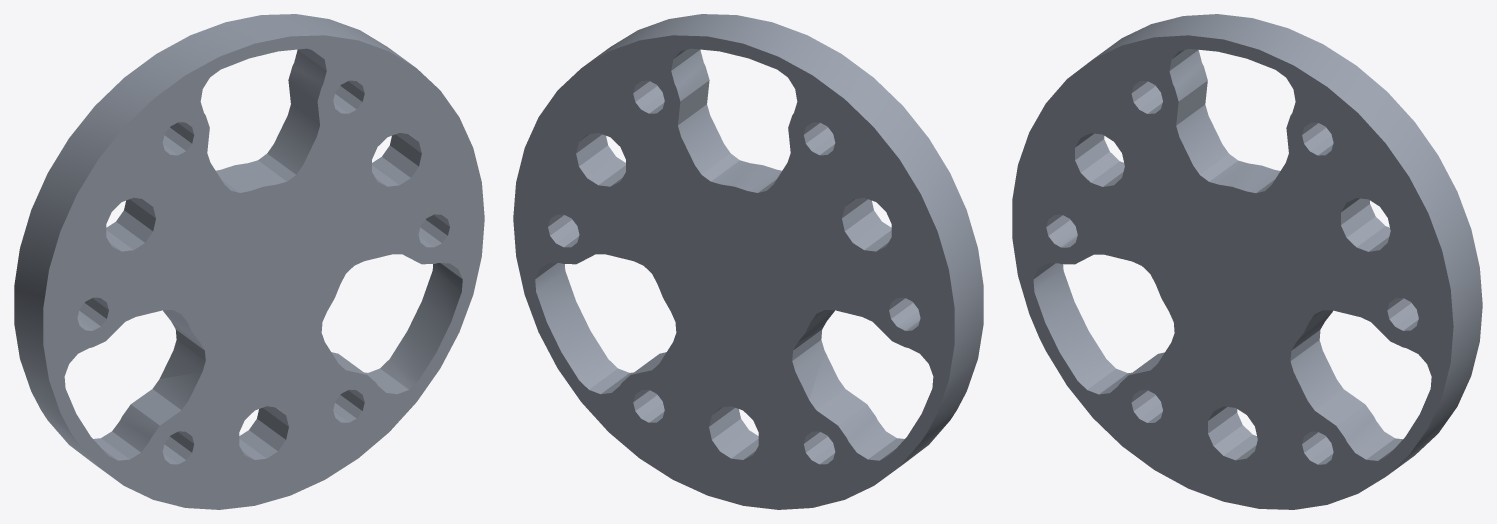
3 renders of one model, left to right at view 1: azimuth 30°, elevation 25°; view 2: azimuth 150°, elevation 25°; view 3: azimuth 330°, elevation 25°, orthographic.
Bounding box in the file's own units: 0.0349 × 0.035 × 0.004.
